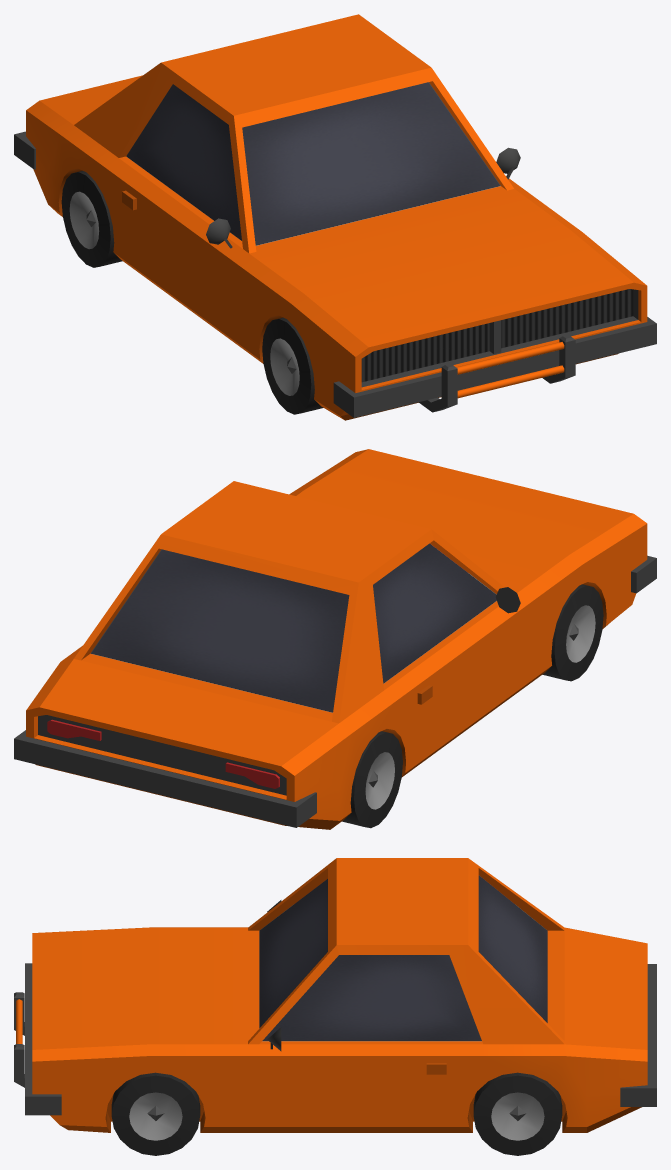
Rendered from Car_B1.fbx.
The picture shows the model from 3 angles, top to bottom: view 1: azimuth 30°, elevation 25°; view 2: azimuth 150°, elevation 25°; view 3: azimuth 270°, elevation 25°; orthographic projection. The views are drawn at different scales.
Parts seen in each view (by area): view 1: Car2_Body, Car2_RF, Car2_RR; view 2: Car2_Body, Car2_RR, Car2_RF; view 3: Car2_Body, Car2_LR, Car2_LF.
Boxes of the visible parts, left/top/right/bottom form: Car2_Body: left=14, top=14, right=656, bottom=420; Car2_RF: left=262, top=317, right=323, bottom=414; Car2_RR: left=61, top=171, right=122, bottom=267; Car2_Body: left=14, top=449, right=656, bottom=829; Car2_RR: left=342, top=731, right=402, bottom=828; Car2_RF: left=542, top=584, right=603, bottom=681; Car2_Body: left=14, top=858, right=656, bottom=1132; Car2_LR: left=473, top=1072, right=562, bottom=1155; Car2_LF: left=111, top=1072, right=200, bottom=1155.
Size of the model in its own units: 206 by 132 by 404.
Materials: 1 (1 with a texture image).
